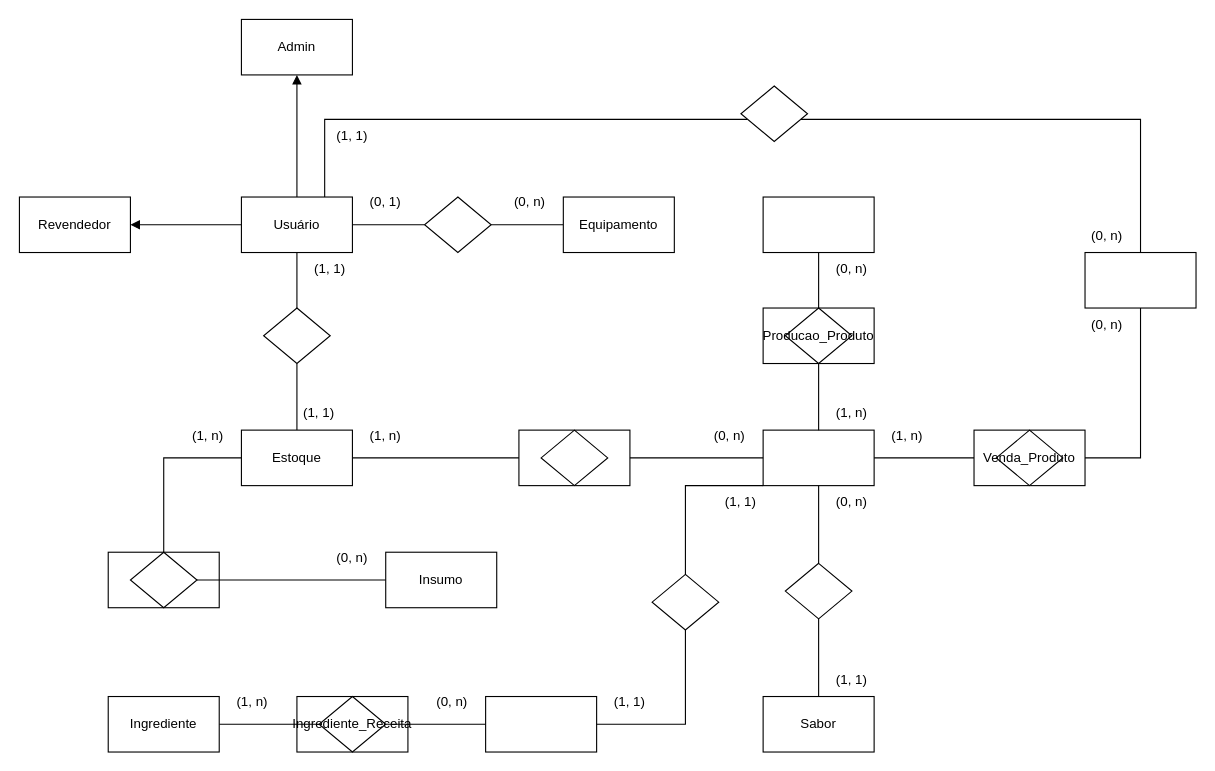
This 1215x771 diagram has some shape labels left out. Each missing label, with the box of its shape:
Estoque_Insumo: (129, 551, 197, 608)
Estoque_Produto: (540, 429, 608, 486)
Producao: (762, 196, 874, 253)
Produto: (762, 429, 874, 486)
Receita: (485, 695, 597, 752)
Venda: (1084, 251, 1196, 308)
